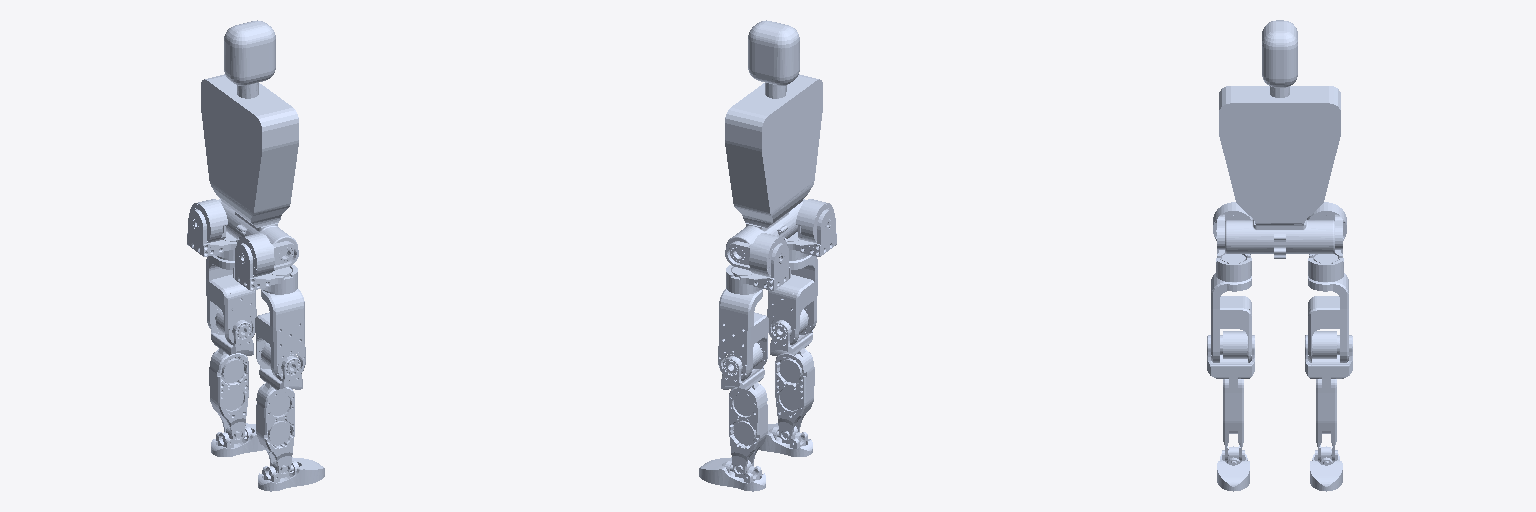
The robot description file, URDF, robot "Wato_Humanoid_V1":
<?xml version="1.0" encoding="utf-8"?>
<!-- This URDF was automatically created by SolidWorks to URDF Exporter! Originally created by Stephen Brawner (brawner@gmail.com) 
     Commit Version: 1.6.0-4-g7f85cfe  Build Version: 1.6.7995.38578
     For more information, please see http://wiki.ros.org/sw_urdf_exporter -->
<robot
  name="Wato_Humanoid_V1">
  <!-- Isaac Lab: Z-up root. CAD base_link is Y-long; fixed joint stands the robot.
       Extra -90 deg yaw on top of the up-axis fix: the X-only rotation above left
       CAD's true forward (Z) mapped onto Isaac's Y axis, and CAD's lateral (X, the
       Hip_F_L/Hip_F_R separation axis) mapped onto Isaac's X; i.e. "forward" was on
       Y and "sideways" was on X, opposite of Isaac Lab's local-+X-forward convention.
       This produced a persistent crab-like gait: lin_vel_x commands were being
       satisfied by strafing along the robot's true lateral axis. This yaw term
       rotates the horizontal plane only (up/down mapping is unchanged) so CAD-forward
       lands on +X and CAD-lateral lands on Y (left = +Y). -->
  <link name="base">
    <inertial>
      <origin xyz="0 0 0" rpy="0 0 0" />
      <mass value="0.001" />
      <inertia ixx="1e-6" ixy="0" ixz="0" iyy="1e-6" iyz="0" izz="1e-6" />
    </inertial>
  </link>
  <joint name="base_to_base_link" type="fixed">
    <origin xyz="0 0 0" rpy="-1.5707963267948966 0 -1.5707963267948966" />
    <parent link="base" />
    <child link="base_link" />
  </joint>
  <link
    name="base_link">
    <inertial>
      <origin
        xyz="-0.0178256130027216 -0.312045347129039 -0.0234215650852464"
        rpy="0 0 0" />
      <mass
        value="28.3605218282777" />
      <inertia
        ixx="0.69401923698989"
        ixy="-9.82144199065855E-05"
        ixz="-3.12577275416637E-07"
        iyy="0.302249953263776"
        iyz="-0.00405559425216514"
        izz="0.907237093065294" />
    </inertial>
    <visual>
      <origin
        xyz="0 0 0"
        rpy="0 0 0" />
      <geometry>
        <mesh
          filename="meshes/base_link.STL" />
      </geometry>
      <material
        name="">
        <color
          rgba="0.866666666666667 0.909803921568627 1 1" />
      </material>
    </visual>
    <collision>
      <origin
        xyz="0 0 0"
        rpy="0 0 0" />
      <geometry>
        <mesh
          filename="meshes/base_link.STL" />
      </geometry>
    </collision>
  </link>
  <link
    name="Hip_F_L">
    <inertial>
      <origin
        xyz="-0.0765965252608057 -0.0742870984999665 0.000260489105071417"
        rpy="0 0 0" />
      <mass
        value="1.85927937041764" />
      <inertia
        ixx="0.00466928532754938"
        ixy="0.000680272307916565"
        ixz="-3.20305099316354E-05"
        iyy="0.0048433423507958"
        iyz="1.88355338559742E-06"
        izz="0.00462810834146459" />
    </inertial>
    <visual>
      <origin
        xyz="0 0 0"
        rpy="0 0 0" />
      <geometry>
        <mesh
          filename="meshes/Hip_F_L.STL" />
      </geometry>
      <material
        name="">
        <color
          rgba="0.866666666666667 0.909803921568627 1 1" />
      </material>
    </visual>
    <collision>
      <origin
        xyz="0 0 0"
        rpy="0 0 0" />
      <geometry>
        <mesh
          filename="meshes/Hip_F_L.STL" />
      </geometry>
    </collision>
  </link>
  <joint
    name="Hip_F_L"
    type="revolute">
    <origin
      xyz="-0.101313616221018 -0.00597208811090948 -0.00261740055167056"
      rpy="1.5707963267949 0 0" />
    <parent
      link="base_link" />
    <child
      link="Hip_F_L" />
    <axis
      xyz="1 0 0" />
    <limit
      lower="-0.3491"
      upper="1.5708"
      effort="222"
      velocity="3.6652" />
  </joint>
  <link
    name="Hip_A_L">
    <inertial>
      <origin
        xyz="-3.85907761302207E-09 -0.0581841592513654 -0.081037989718635"
        rpy="0 0 0" />
      <mass
        value="2.17786049871613" />
      <inertia
        ixx="0.010356099240432"
        ixy="5.51142159865326E-10"
        ixz="-1.15261408091874E-10"
        iyy="0.00534355844537912"
        iyz="0.00295380494251491"
        izz="0.00927736349194753" />
    </inertial>
    <visual>
      <origin
        xyz="0 0 0"
        rpy="0 0 0" />
      <geometry>
        <mesh
          filename="meshes/Hip_A_L.STL" />
      </geometry>
      <material
        name="">
        <color
          rgba="0.866666666666667 0.909803921568627 1 1" />
      </material>
    </visual>
    <collision>
      <origin
        xyz="0 0 0"
        rpy="0 0 0" />
      <geometry>
        <mesh
          filename="meshes/Hip_A_L.STL" />
      </geometry>
    </collision>
  </link>
  <joint
    name="Hip_A_L"
    type="revolute">
    <origin
      xyz="-0.069 0 0"
      rpy="0 0 0" />
    <parent
      link="Hip_F_L" />
    <child
      link="Hip_A_L" />
    <axis
      xyz="0 1 0" />
    <limit
      lower="-0.1745"
      upper="1.0472"
      effort="120"
      velocity="20.944" />
  </joint>
  <link
    name="Thigh_L">
    <inertial>
      <origin
        xyz="-0.0140461341993555 -0.00261881131754188 -0.141650563901102"
        rpy="0 0 0" />
      <mass
        value="6.3925834479658" />
      <inertia
        ixx="0.0377767427668699"
        ixy="-0.000125319204693723"
        ixz="0.000606433362371239"
        iyy="0.0412576137629967"
        iyz="8.37171849815304E-05"
        izz="0.0179331997635995" />
    </inertial>
    <visual>
      <origin
        xyz="0 0 0"
        rpy="0 0 0" />
      <geometry>
        <mesh
          filename="meshes/Thigh_L.STL" />
      </geometry>
      <material
        name="">
        <color
          rgba="0.866666666666667 0.909803921568627 1 1" />
      </material>
    </visual>
    <collision>
      <origin
        xyz="0 0 0"
        rpy="0 0 0" />
      <geometry>
        <mesh
          filename="meshes/Thigh_L.STL" />
      </geometry>
    </collision>
  </link>
  <joint
    name="Hip_R_L"
    type="revolute">
    <origin
      xyz="0 0 -0.130499999999998"
      rpy="0 0 0" />
    <parent
      link="Hip_A_L" />
    <child
      link="Thigh_L" />
    <axis
      xyz="0 0 1" />
    <limit
      lower="-0.5236"
      upper="1.5708"
      effort="60"
      velocity="20.42" />
  </joint>
  <link
    name="Calf_L">
    <inertial>
      <origin
        xyz="-0.00422263266641851 -0.00845674308430088 -0.161909849422175"
        rpy="0 0 0" />
      <mass
        value="4.57276009601776" />
      <inertia
        ixx="0.0507142410332034"
        ixy="0.000167037114742281"
        ixz="0.00269071976805593"
        iyy="0.0509548750553291"
        iyz="-0.00194248642921232"
        izz="0.00972460386909208" />
    </inertial>
    <visual>
      <origin
        xyz="0 0 0"
        rpy="0 0 0" />
      <geometry>
        <mesh
          filename="meshes/Calf_L.STL" />
      </geometry>
      <material
        name="">
        <color
          rgba="0.866666666666667 0.909803921568627 1 1" />
      </material>
    </visual>
    <collision>
      <origin
        xyz="0 0 0"
        rpy="0 0 0" />
      <geometry>
        <mesh
          filename="meshes/Calf_L.STL" />
      </geometry>
    </collision>
  </link>
  <joint
    name="Knee_L"
    type="revolute">
    <origin
      xyz="0 0 -0.261500000000557"
      rpy="0.00655041529097143 0 0" />
    <parent
      link="Thigh_L" />
    <child
      link="Calf_L" />
    <axis
      xyz="1 0 0" />
    <limit
      lower="-1.134464014"
      upper="0"
      effort="222"
      velocity="3.6652" />
  </joint>
  <link
    name="Ankle_L">
    <inertial>
      <origin
        xyz="-0.000300000000031247 0.00202712541456969 -0.00967253391125056"
        rpy="0 0 0" />
      <mass
        value="0.263617094766663" />
      <inertia
        ixx="0.000135227765188618"
        ixy="3.29713388840002E-19"
        ixz="-1.10561449646542E-18"
        iyy="8.62171882849032E-05"
        iyz="4.41444728891872E-06"
        izz="0.000108479948629321" />
    </inertial>
    <visual>
      <origin
        xyz="0 0 0"
        rpy="0 0 0" />
      <geometry>
        <mesh
          filename="meshes/Ankle_L.STL" />
      </geometry>
      <material
        name="">
        <color
          rgba="0.866666666666667 0.909803921568627 1 1" />
      </material>
    </visual>
    <collision>
      <origin
        xyz="0 0 0"
        rpy="0 0 0" />
      <geometry>
        <mesh
          filename="meshes/Ankle_L.STL" />
      </geometry>
    </collision>
  </link>
  <joint
    name="Ankle_P_L"
    type="revolute">
    <origin
      xyz="0 0 -0.393599999999988"
      rpy="-0.00655041529097143 0 0" />
    <parent
      link="Calf_L" />
    <child
      link="Ankle_L" />
    <axis
      xyz="-1 0 0" />
    <limit
      lower="-0.5236"
      upper="0.8727"
      effort="120"
      velocity="20.42" />
  </joint>
  <link
    name="Foot_L">
    <inertial>
      <origin
        xyz="-9.1537702898159E-07 0.0576363382230524 -0.0232669155388406"
        rpy="0 0 0" />
      <mass
        value="1.88969474620874" />
      <inertia
        ixx="0.00770783639371384"
        ixy="-8.52856224218189E-08"
        ixz="4.10733361351515E-08"
        iyy="0.00204838176587607"
        iyz="-0.000195649387406003"
        izz="0.00890782288027548" />
    </inertial>
    <visual>
      <origin
        xyz="0 0 0"
        rpy="0 0 0" />
      <geometry>
        <mesh
          filename="meshes/Foot_L.STL" />
      </geometry>
      <material
        name="">
        <color
          rgba="0.866666666666667 0.909803921568627 1 1" />
      </material>
    </visual>
    <collision>
      <origin
        xyz="0 0 0"
        rpy="0 0 0" />
      <geometry>
        <mesh
          filename="meshes/Foot_L.STL" />
      </geometry>
    </collision>
  </link>
  <joint
    name="Ankle_R_L"
    type="revolute">
    <origin
      xyz="-0.00030000000003183 0 -0.0179333346595372"
      rpy="0 0 0" />
    <parent
      link="Ankle_L" />
    <child
      link="Foot_L" />
    <axis
      xyz="0 -1 0" />
    <limit
      lower="-0.2618"
      upper="0.2618"
      effort="120"
      velocity="20.42" />
  </joint>
  <link
    name="Hip_F_R">
    <inertial>
      <origin
        xyz="0.0765965502181098 -0.0742870765499794 0.00026051884040908"
        rpy="0 0 0" />
      <mass
        value="1.85928075179988" />
      <inertia
        ixx="0.00466928726772697"
        ixy="-0.000680273181631613"
        ixz="3.20281948463189E-05"
        iyy="0.00484334527161812"
        iyz="1.88499415644764E-06"
        izz="0.00462811026523055" />
    </inertial>
    <visual>
      <origin
        xyz="0 0 0"
        rpy="0 0 0" />
      <geometry>
        <mesh
          filename="meshes/Hip_F_R.STL" />
      </geometry>
      <material
        name="">
        <color
          rgba="0.866666666666667 0.909803921568627 1 1" />
      </material>
    </visual>
    <collision>
      <origin
        xyz="0 0 0"
        rpy="0 0 0" />
      <geometry>
        <mesh
          filename="meshes/Hip_F_R.STL" />
      </geometry>
    </collision>
  </link>
  <joint
    name="Hip_F_R"
    type="revolute">
    <origin
      xyz="0.06568638377897 -0.00597208811090948 -0.00261740055167058"
      rpy="1.5707963267949 0 0" />
    <parent
      link="base_link" />
    <child
      link="Hip_F_R" />
    <axis
      xyz="1 0 0" />
    <limit
      lower="-0.3491"
      upper="1.5708"
      effort="222"
      velocity="3.6652" />
  </joint>
  <link
    name="Hip_A_R">
    <inertial>
      <origin
        xyz="-3.83893161703952E-09 -0.058184157660292 -0.081037989798686"
        rpy="0 0 0" />
      <mass
        value="2.17786045043723" />
      <inertia
        ixx="0.0103560993252746"
        ixy="5.4259602096013E-10"
        ixz="-1.1309107518557E-10"
        iyy="0.00534355840536511"
        iyz="0.0029538049638703"
        izz="0.00927736355076564" />
    </inertial>
    <visual>
      <origin
        xyz="0 0 0"
        rpy="0 0 0" />
      <geometry>
        <mesh
          filename="meshes/Hip_A_R.STL" />
      </geometry>
      <material
        name="">
        <color
          rgba="0.866666666666667 0.909803921568627 1 1" />
      </material>
    </visual>
    <collision>
      <origin
        xyz="0 0 0"
        rpy="0 0 0" />
      <geometry>
        <mesh
          filename="meshes/Hip_A_R.STL" />
      </geometry>
    </collision>
  </link>
  <joint
    name="Hip_A_R"
    type="revolute">
    <origin
      xyz="0.069000000000001 0 0"
      rpy="0 0 0" />
    <parent
      link="Hip_F_R" />
    <child
      link="Hip_A_R" />
    <axis
      xyz="0 -1 0" />
    <limit
      lower="-0.1745"
      upper="1.0472"
      effort="120"
      velocity="20.944" />
  </joint>
  <link
    name="Thigh_R">
    <inertial>
      <origin
        xyz="0.0140461758796909 -0.00261879925221624 -0.141650509908182"
        rpy="0 0 0" />
      <mass
        value="6.39258174798958" />
      <inertia
        ixx="0.0377767089802132"
        ixy="0.000125322393772352"
        ixz="-0.000606453721600612"
        iyy="0.0412575794633918"
        iyz="8.37142115209935E-05"
        izz="0.0179331982884892" />
    </inertial>
    <visual>
      <origin
        xyz="0 0 0"
        rpy="0 0 0" />
      <geometry>
        <mesh
          filename="meshes/Thigh_R.STL" />
      </geometry>
      <material
        name="">
        <color
          rgba="0.866666666666667 0.909803921568627 1 1" />
      </material>
    </visual>
    <collision>
      <origin
        xyz="0 0 0"
        rpy="0 0 0" />
      <geometry>
        <mesh
          filename="meshes/Thigh_R.STL" />
      </geometry>
    </collision>
  </link>
  <joint
    name="Hip_R_R"
    type="revolute">
    <origin
      xyz="0 0 -0.130499999999985"
      rpy="0 0 0" />
    <parent
      link="Hip_A_R" />
    <child
      link="Thigh_R" />
    <axis
      xyz="0 0 -1" />
    <limit
      lower="-0.5236"
      upper="1.5708"
      effort="60"
      velocity="20.42" />
  </joint>
  <link
    name="Calf_R">
    <inertial>
      <origin
        xyz="0.00422281549892706 -0.00845659877907993 -0.161909818734479"
        rpy="0 0 0" />
      <mass
        value="4.57276562417178" />
      <inertia
        ixx="0.0507142565854391"
        ixy="-0.000167040591606664"
        ixz="-0.00269075052939453"
        iyy="0.0509548797557359"
        iyz="-0.00194250943812969"
        izz="0.00972462326955457" />
    </inertial>
    <visual>
      <origin
        xyz="0 0 0"
        rpy="0 0 0" />
      <geometry>
        <mesh
          filename="meshes/Calf_R.STL" />
      </geometry>
      <material
        name="">
        <color
          rgba="0.866666666666667 0.909803921568627 1 1" />
      </material>
    </visual>
    <collision>
      <origin
        xyz="0 0 0"
        rpy="0 0 0" />
      <geometry>
        <mesh
          filename="meshes/Calf_R.STL" />
      </geometry>
    </collision>
  </link>
  <joint
    name="Knee_R"
    type="revolute">
    <origin
      xyz="0 0 -0.261500000000547"
      rpy="0.00655041529097143 0 0" />
    <parent
      link="Thigh_R" />
    <child
      link="Calf_R" />
    <axis
      xyz="1 0 0" />
    <limit
      lower="-1.134464014"
      upper="0"
      effort="222"
      velocity="3.6652" />
  </joint>
  <link
    name="Ankle_R">
    <inertial>
      <origin
        xyz="0.000300000000032413 0.00202712541479553 -0.00967253390667422"
        rpy="0 0 0" />
      <mass
        value="0.26361709455037" />
      <inertia
        ixx="0.000135227765103666"
        ixy="-1.60681221536005E-20"
        ixz="3.43203452596199E-20"
        iyy="8.62171882299548E-05"
        iyz="4.4144472898776E-06"
        izz="0.000108479948532872" />
    </inertial>
    <visual>
      <origin
        xyz="0 0 0"
        rpy="0 0 0" />
      <geometry>
        <mesh
          filename="meshes/Ankle_R.STL" />
      </geometry>
      <material
        name="">
        <color
          rgba="0.866666666666667 0.909803921568627 1 1" />
      </material>
    </visual>
    <collision>
      <origin
        xyz="0 0 0"
        rpy="0 0 0" />
      <geometry>
        <mesh
          filename="meshes/Ankle_R.STL" />
      </geometry>
    </collision>
  </link>
  <joint
    name="Ankle_P_R"
    type="revolute">
    <origin
      xyz="0 0 -0.393599999999998"
      rpy="-0.00655041529097143 0 0" />
    <parent
      link="Calf_R" />
    <child
      link="Ankle_R" />
    <axis
      xyz="-1 0 0" />
    <limit
      lower="-0.5236"
      upper="0.8727"
      effort="120"
      velocity="20.42" />
  </joint>
  <link
    name="Foot_R">
    <inertial>
      <origin
        xyz="-1.17640058550084E-06 0.0576296116869578 -0.0232668040239051"
        rpy="0 0 0" />
      <mass
        value="1.88960670537209" />
      <inertia
        ixx="0.00770744513710908"
        ixy="1.10429456791108E-07"
        ixz="-2.71312526885416E-08"
        iyy="0.00204843890809921"
        iyz="-0.000195606840062407"
        izz="0.00890734192555341" />
    </inertial>
    <visual>
      <origin
        xyz="0 0 0"
        rpy="0 0 0" />
      <geometry>
        <mesh
          filename="meshes/Foot_R.STL" />
      </geometry>
      <material
        name="">
        <color
          rgba="0.866666666666667 0.909803921568627 1 1" />
      </material>
    </visual>
    <collision>
      <origin
        xyz="0 0 0"
        rpy="0 0 0" />
      <geometry>
        <mesh
          filename="meshes/Foot_R.STL" />
      </geometry>
    </collision>
  </link>
  <joint
    name="Ankle_R_R"
    type="revolute">
    <origin
      xyz="0.000300000000032413 0 -0.0179333346595372"
      rpy="0 0 0" />
    <parent
      link="Ankle_R" />
    <child
      link="Foot_R" />
    <axis
      xyz="0 1 0" />
    <limit
      lower="-0.2618"
      upper="0.2618"
      effort="120"
      velocity="20.42" />
  </joint>
</robot>

--- Render facts (derived) ---
Views: 3 orthographic renders of the robot side by side, from view 1: azimuth 30°, elevation 25°; view 2: azimuth 150°, elevation 25°; view 3: azimuth 270°, elevation 25°.
Model Wato_Humanoid_V1 with 14 links and 13 joints (12 revolute, 1 fixed), rooted at base, posed every joint at zero.
Links seen in each view (by area): view 1: base_link, Calf_L, Calf_R, Thigh_R, Thigh_L, Hip_A_R, Hip_F_R, Foot_R, Hip_A_L, Foot_L, Hip_F_L; view 2: base_link, Calf_R, Calf_L, Thigh_L, Thigh_R, Hip_A_L, Hip_F_L, Foot_L, Hip_A_R, Foot_R, Hip_F_R; view 3: base_link, Thigh_L, Thigh_R, Calf_L, Calf_R, Foot_L, Foot_R, Hip_A_L, Hip_A_R, Hip_F_L, Hip_F_R.
Boxes of the visible links, x1,y1,x2,y2 form: base_link: [201, 20, 298, 256]; Calf_L: [209, 309, 253, 441]; Calf_R: [256, 354, 302, 475]; Thigh_R: [255, 289, 305, 380]; Thigh_L: [206, 255, 256, 344]; Hip_A_R: [233, 243, 297, 294]; Hip_F_R: [237, 233, 298, 277]; Foot_R: [258, 457, 324, 491]; Hip_A_L: [187, 209, 236, 260]; Foot_L: [211, 423, 265, 456]; Hip_F_L: [190, 199, 227, 242]; base_link: [725, 20, 822, 256]; Calf_R: [770, 309, 814, 441]; Calf_L: [721, 354, 767, 475]; Thigh_L: [718, 289, 768, 380]; Thigh_R: [767, 255, 817, 344]; Hip_A_L: [726, 243, 790, 294]; Hip_F_L: [725, 233, 786, 277]; Foot_L: [699, 457, 765, 491]; Hip_A_R: [787, 209, 836, 260]; Foot_R: [758, 423, 812, 456]; Hip_F_R: [796, 199, 833, 242]; base_link: [1219, 20, 1340, 258]; Thigh_L: [1308, 273, 1348, 362]; Thigh_R: [1211, 273, 1251, 362]; Calf_L: [1305, 335, 1352, 460]; Calf_R: [1207, 335, 1254, 460]; Foot_L: [1310, 446, 1342, 491]; Foot_R: [1217, 446, 1249, 491]; Hip_A_L: [1308, 250, 1343, 281]; Hip_A_R: [1216, 250, 1251, 281]; Hip_F_L: [1307, 202, 1346, 249]; Hip_F_R: [1213, 202, 1252, 249].
Bounding box of the posed robot: 0.3098 × 0.4786 × 1.6 m (x, y, z).
Meshes: 13 distinct files referenced, 13 mesh visuals loaded (13 binary STL).
